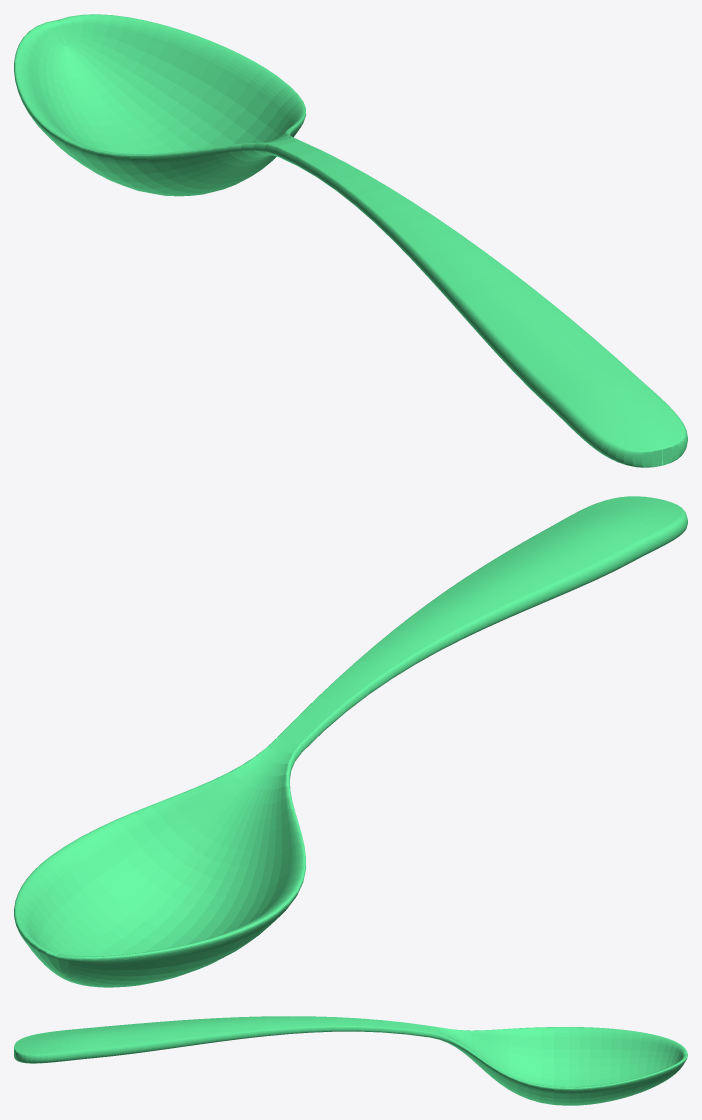
File: Spoon.gltf
3 renders of one model, top to bottom at view 1: azimuth 30°, elevation 25°; view 2: azimuth 150°, elevation 25°; view 3: azimuth 270°, elevation 25°, orthographic. The views are drawn at different scales.
Parts seen in each view (by area): view 1: Spoon; view 2: Spoon; view 3: Spoon.
Part boxes in pixels (left/top/right/bottom): Spoon: left=14, top=14, right=687, bottom=467; Spoon: left=14, top=496, right=687, bottom=987; Spoon: left=14, top=1016, right=687, bottom=1105.
Bounding box in the file's own units: 0.264 × 0.155 × 1.21.
